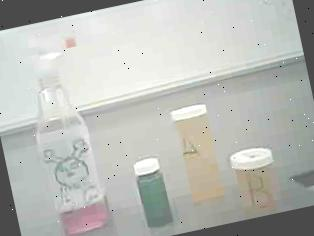Bottle A: (161, 94, 234, 214)
Bottle B: (225, 138, 289, 221)
Bottle C: (124, 149, 183, 236)
hazard: (8, 25, 123, 236)
